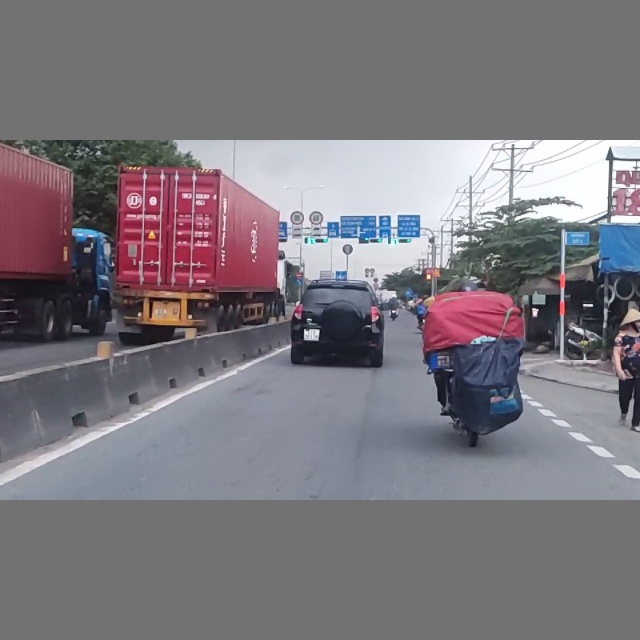P.102: (295, 272, 302, 278)
P.127*60: (309, 210, 325, 226)
P.127*80: (291, 211, 304, 225)
R.302a: (296, 279, 303, 285)
